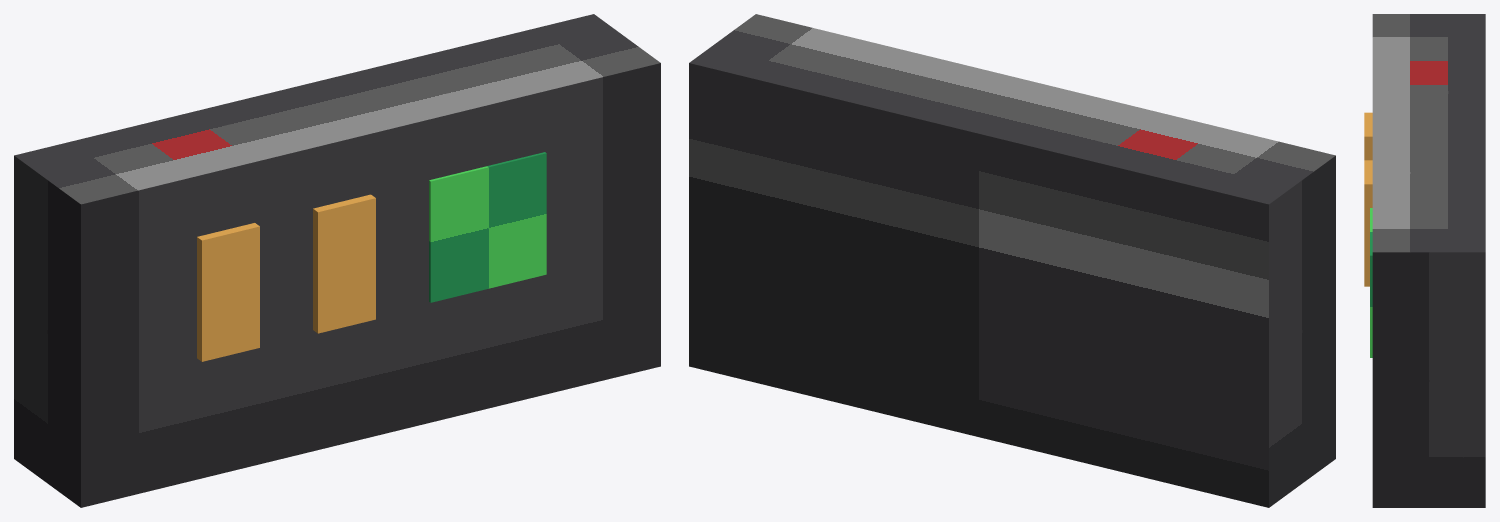
Rendered from airlock_sensor_standby.glb.
The picture shows the model from 3 angles, left to right: view 1: azimuth 30°, elevation 25°; view 2: azimuth 150°, elevation 25°; view 3: azimuth 270°, elevation 25°; orthographic projection. The views are drawn at different scales.
Visible parts, largest first — view 1: Continuous_Sensor_Housing, Status_Indicator, Press_Button_2, Press_Button_1; view 2: Continuous_Sensor_Housing; view 3: Continuous_Sensor_Housing, Press_Button_2, Status_Indicator, Press_Button_1.
Part boxes in pixels (bbox=[...]): Continuous_Sensor_Housing: bbox=[14, 14, 660, 507]; Status_Indicator: bbox=[429, 152, 546, 302]; Press_Button_2: bbox=[313, 194, 375, 333]; Press_Button_1: bbox=[197, 223, 259, 361]; Continuous_Sensor_Housing: bbox=[689, 14, 1335, 507]; Continuous_Sensor_Housing: bbox=[1372, 14, 1485, 507]; Press_Button_2: bbox=[1364, 160, 1372, 286]; Status_Indicator: bbox=[1370, 208, 1372, 357]; Press_Button_1: bbox=[1364, 112, 1372, 160].
Bounding box in the file's own units: 0.2812 × 0.1406 × 0.0605.
1 material, 1 textured.
